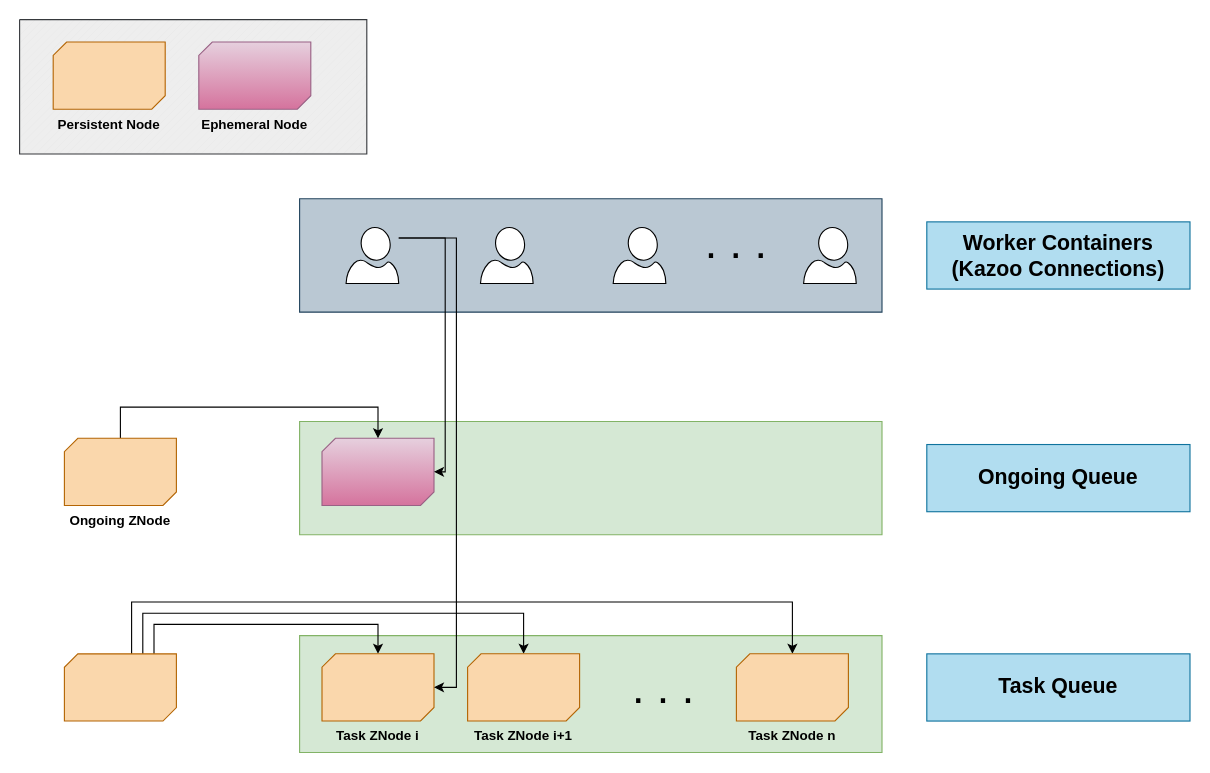
This 1210x773 diagram has some shape labels left out. The shapes that lost their labels are listed below. From the top down, each one's centre as x and y in pixels, then its label:
point (377, 471): Ongoing ZNode i
point (119, 687): Tasks ZNode
